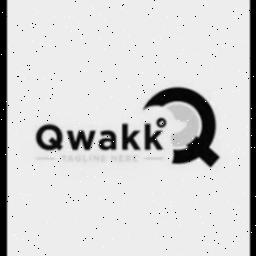q: (34, 114, 66, 154)
w: (66, 126, 98, 152)
